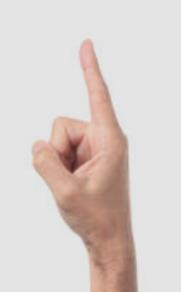up: (30, 37, 135, 246)
